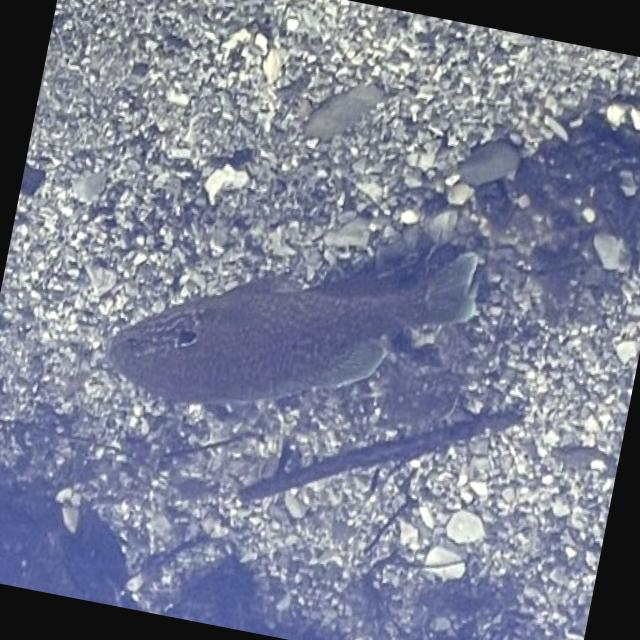Gunes Levregi: (88, 174, 486, 462)
